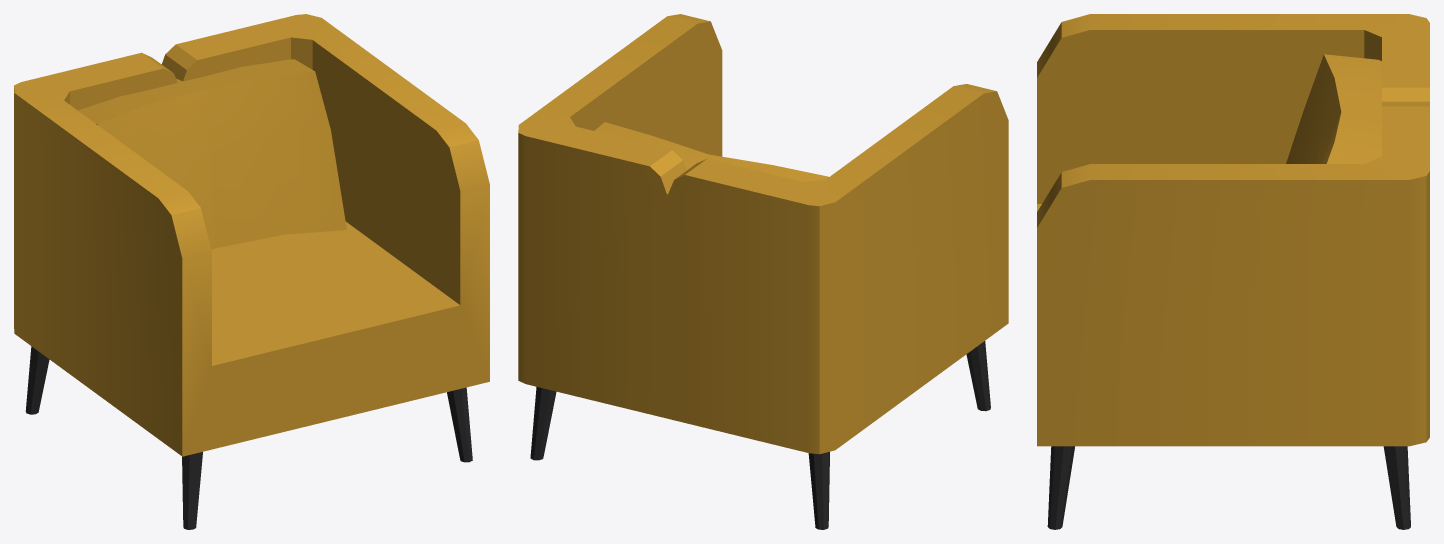
Rendered from orange-chair.glb.
3 renders of one model, left to right at view 1: azimuth 30°, elevation 25°; view 2: azimuth 150°, elevation 25°; view 3: azimuth 270°, elevation 25°, orthographic. The views are drawn at different scales.
Parts seen in each view (by area): view 1: yellow chair; view 2: yellow chair; view 3: yellow chair.
Part boxes in pixels (box(x1,y1,x2,y2)): yellow chair: box(14, 14, 489, 529); yellow chair: box(518, 14, 1008, 529); yellow chair: box(1037, 14, 1429, 529).
Bounding box in the file's own units: 0.8 × 0.7981 × 0.8.
